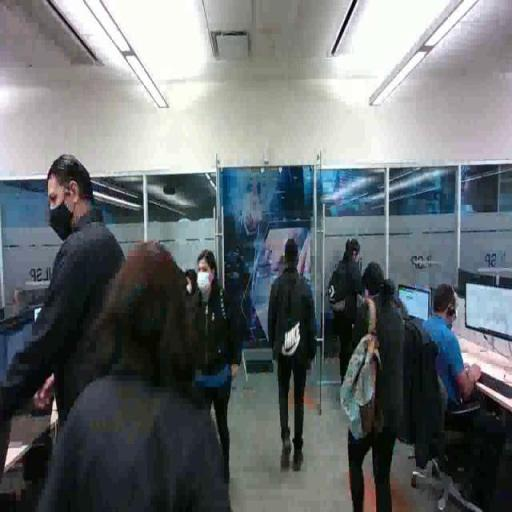person: (33, 236, 245, 512), (3, 149, 131, 427), (348, 260, 409, 509), (188, 248, 244, 482), (412, 274, 485, 449), (268, 233, 320, 475), (336, 237, 364, 384)
